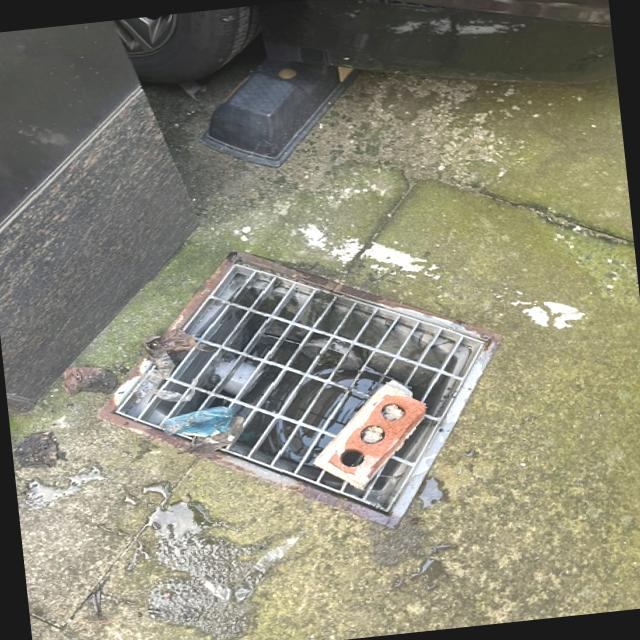drain_area: (114, 266, 486, 513), (313, 379, 428, 492)
drain_full: (116, 264, 486, 513)
